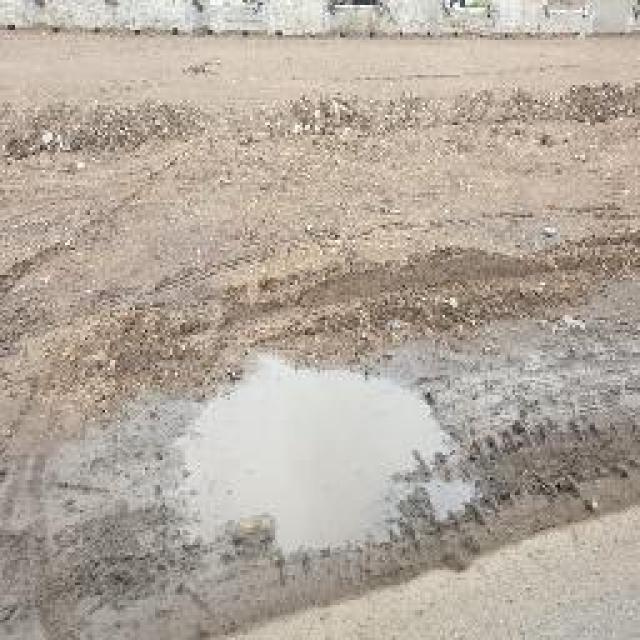waterlogging: (166, 371, 492, 582)
